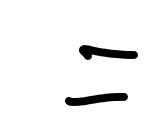eqv: (61, 41, 139, 107)
